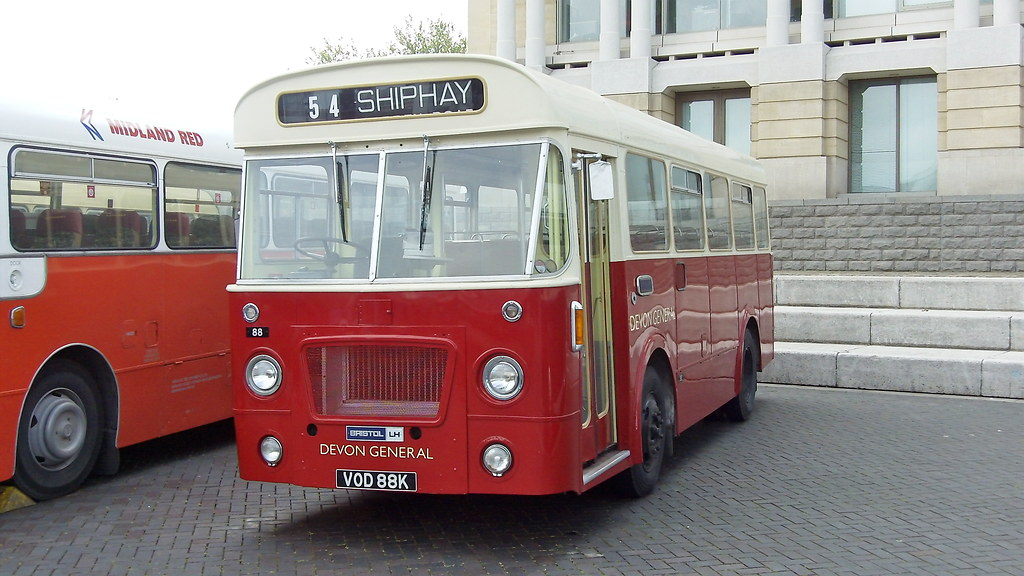bus: (214, 39, 775, 543)
